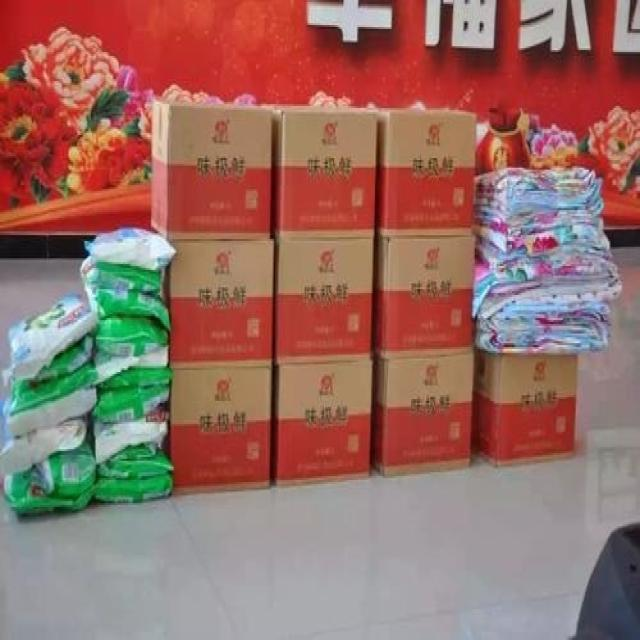box: (151, 98, 273, 241), (160, 239, 274, 368), (273, 110, 378, 241), (169, 366, 273, 497), (370, 349, 475, 478), (374, 110, 476, 241), (270, 359, 372, 486), (472, 349, 579, 470), (372, 235, 476, 359), (273, 237, 374, 364)
